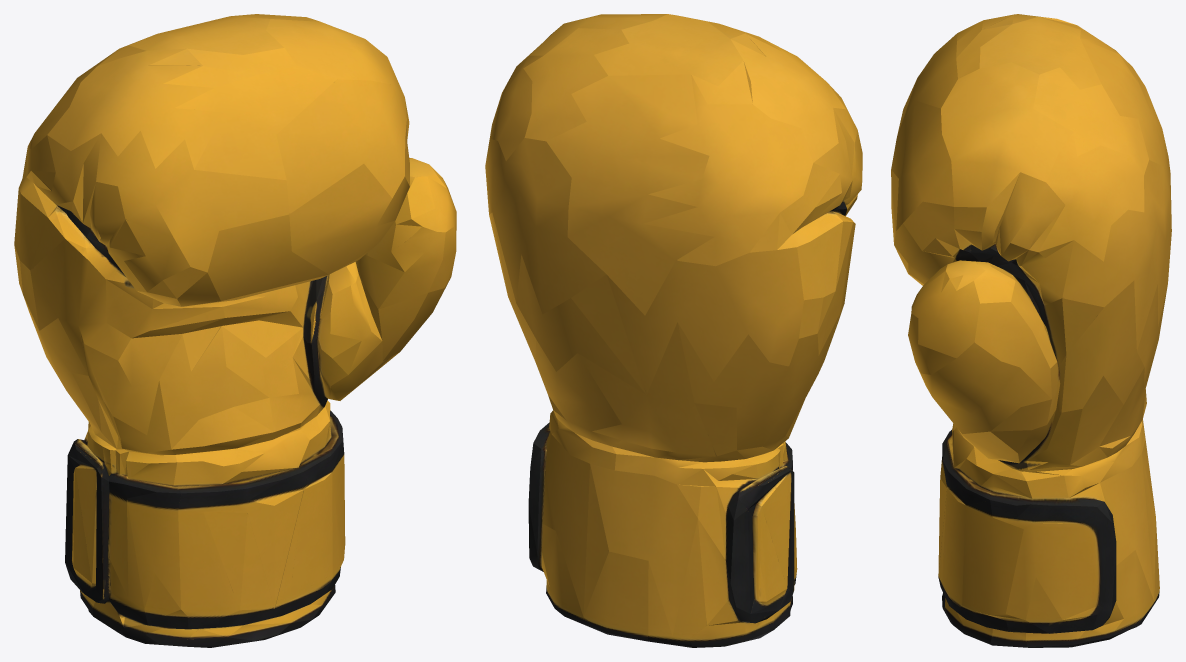
File: source.glb
The picture shows the model from 3 angles, left to right: view 1: azimuth 30°, elevation 25°; view 2: azimuth 150°, elevation 25°; view 3: azimuth 270°, elevation 25°; orthographic projection. The views are drawn at different scales.
Size of the model in its own units: 1.27 by 1.9 by 0.8579.
Materials: 1 (1 with a texture image).
